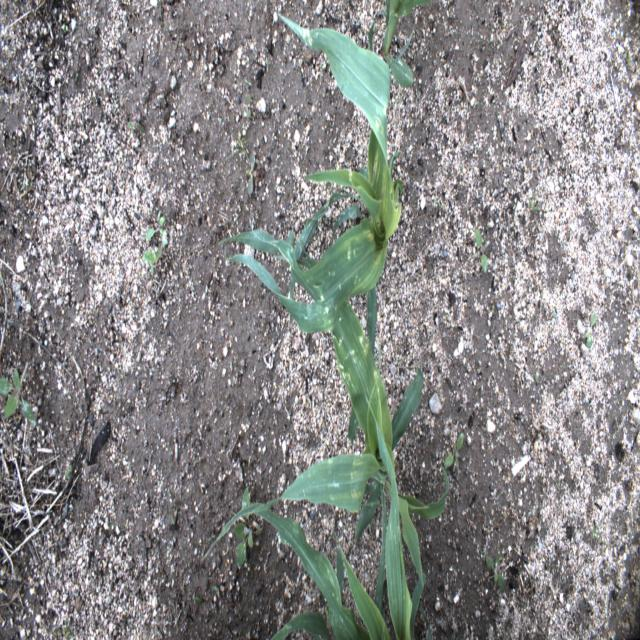crop: (218, 11, 404, 445), (259, 237, 450, 632), (202, 396, 458, 640), (369, 0, 431, 87)
weed: (0, 358, 36, 427), (232, 488, 260, 570), (444, 432, 465, 479), (471, 227, 492, 273), (225, 127, 249, 162), (144, 210, 168, 245), (485, 553, 505, 590), (192, 581, 220, 607), (589, 516, 610, 547), (245, 152, 259, 196), (143, 246, 162, 277), (529, 182, 544, 212), (586, 314, 598, 350), (242, 94, 256, 118), (51, 625, 76, 638), (126, 121, 145, 133), (622, 51, 632, 70), (243, 75, 252, 88), (488, 34, 495, 44), (492, 303, 496, 316)
